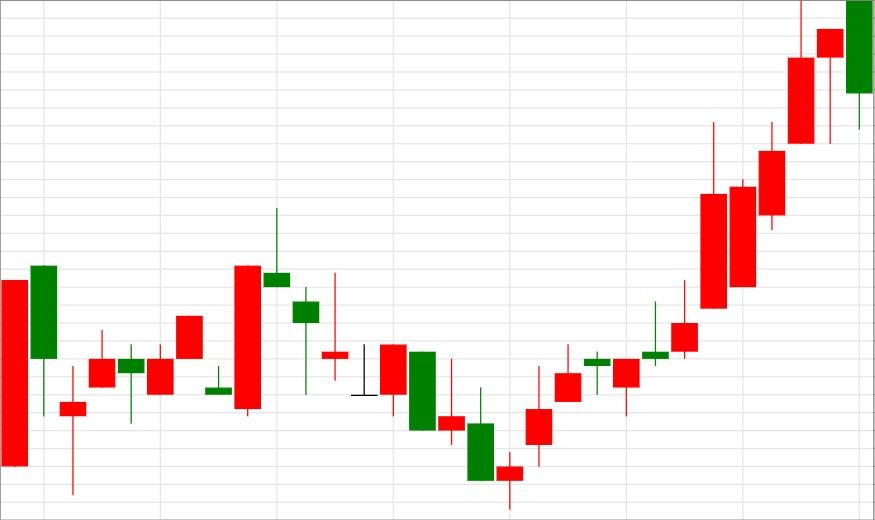three_white_soldiers_rise: (262, 207, 583, 510)
